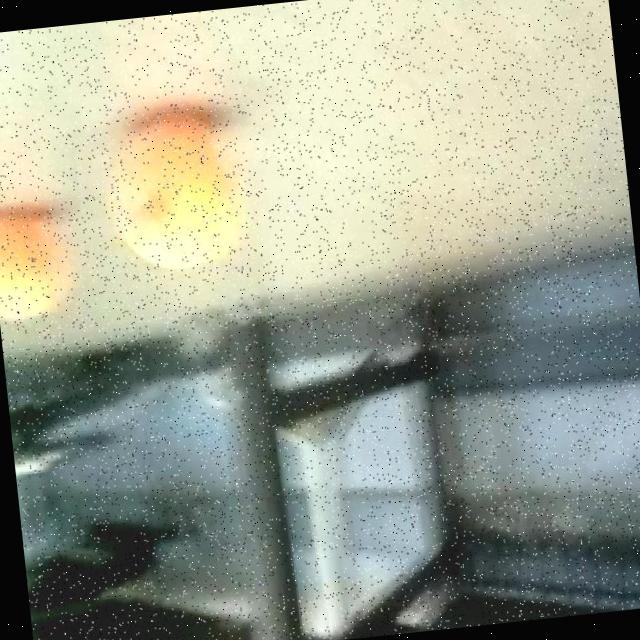ping-pong-ball: (94, 106, 250, 282), (0, 205, 77, 332)
